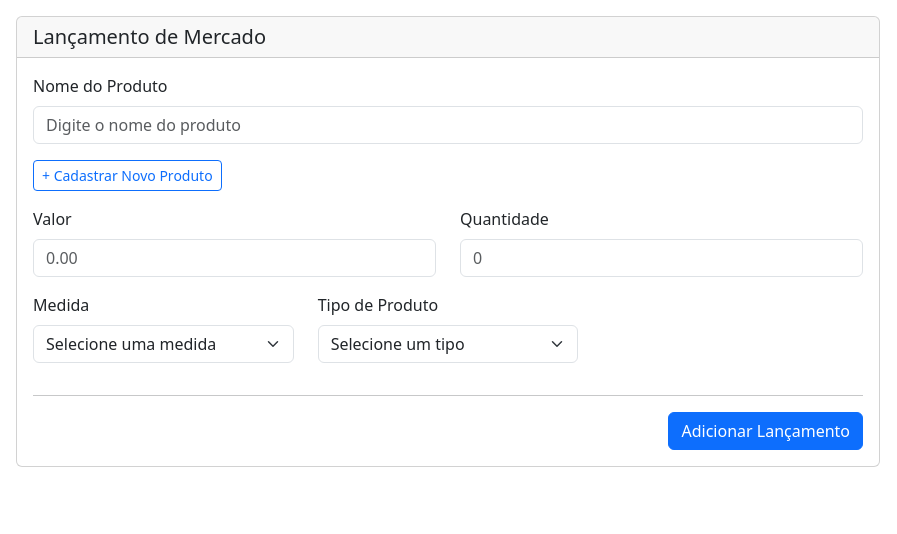
Scenario: LancamentoMercado Component › Validação de formulário › deve validar campos obrigatórios antes de submeter
The width and height of the screenshot is (897, 534).
Type "Arroz" into the field labelled "Nome do Produto" at (448, 125), box [33,106,863,144]
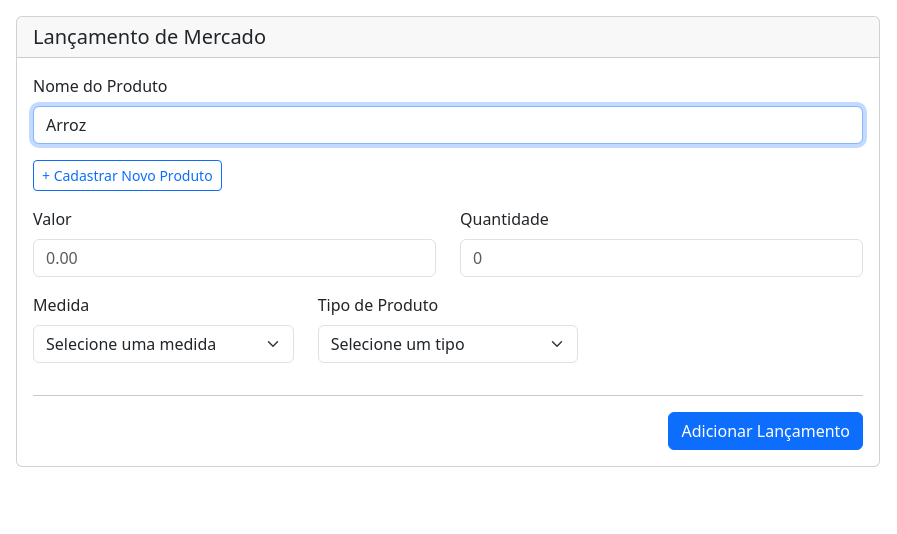
Click the button "Adicionar Lançamento" at (766, 431), box [668,412,863,450]
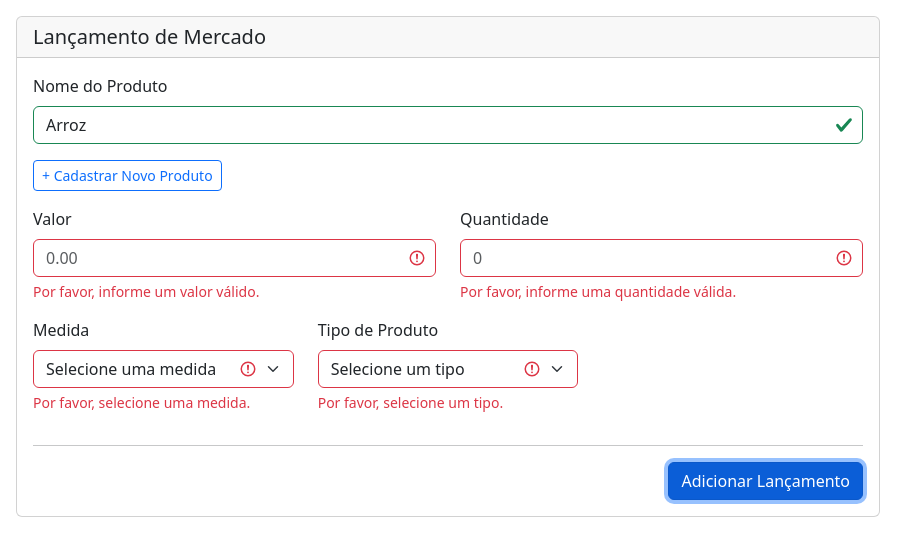
Now the text "Por favor, informe um valor válido." is shown, box [33,282,259,301]
